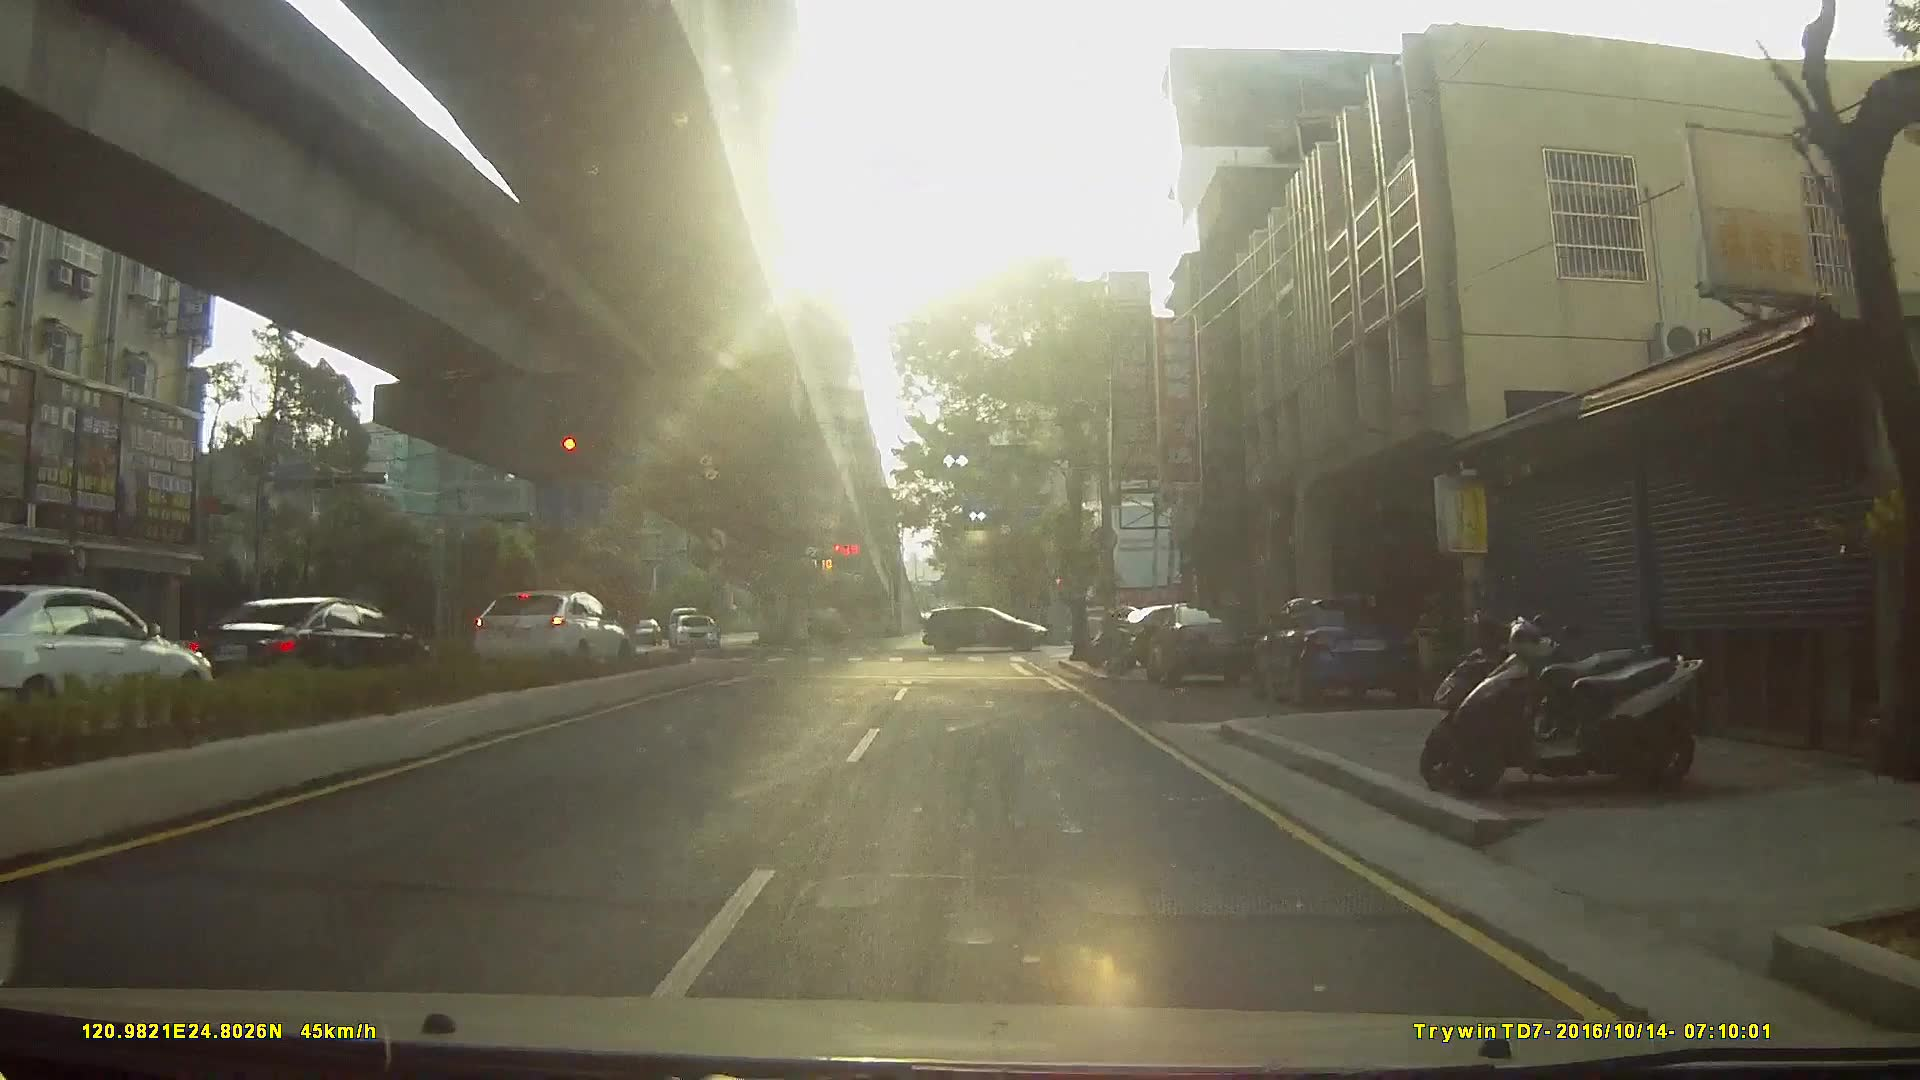vehicle: (1, 584, 215, 738), (178, 597, 430, 703), (1257, 593, 1432, 713), (463, 589, 625, 673), (1145, 597, 1267, 687), (924, 605, 1052, 655), (670, 612, 717, 651), (620, 618, 661, 647)
